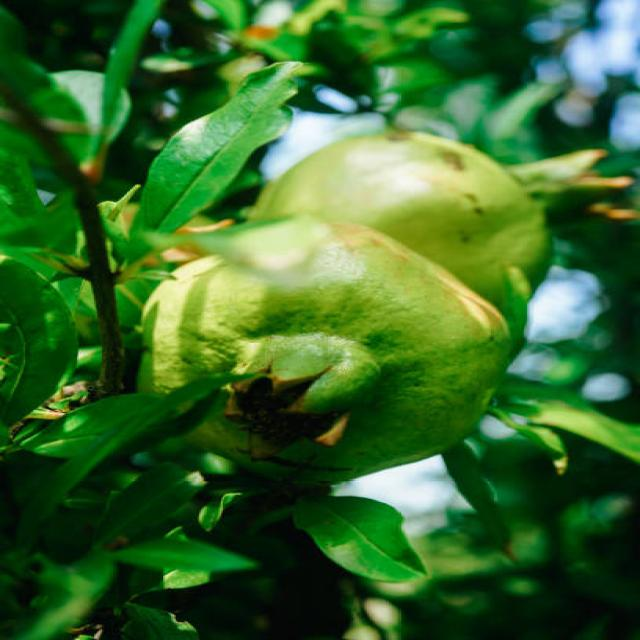Unripe: (126, 220, 509, 490)
